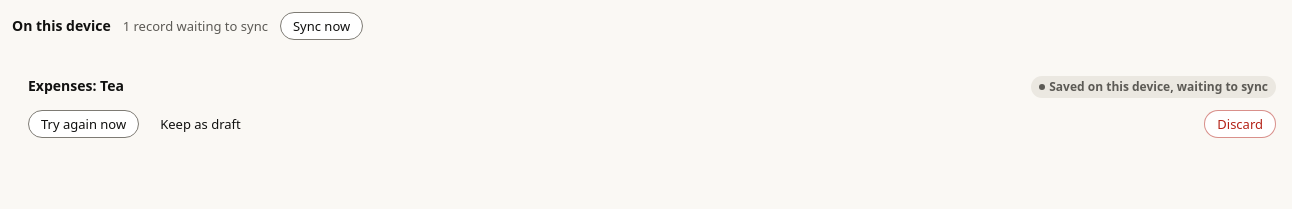
Scenario: Try again from a stale row says so on screen
Expected: the text "Saved on this device, waiting to sync" is shown, [1031,76,1276,98]
Click the button "Try again now" at x=84, y=124, box [28,110,139,138]
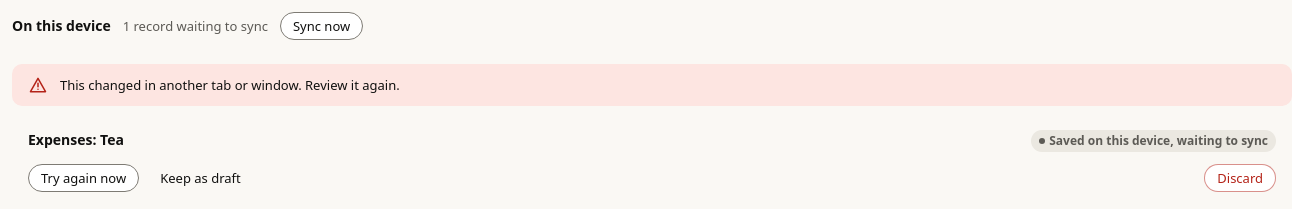
Expected: the message shows "changed in another tab", [60,76,400,94]
